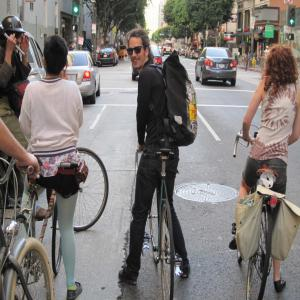Vehicle-registration-plate: (219, 64, 226, 69), (67, 78, 73, 82), (104, 56, 108, 59)
